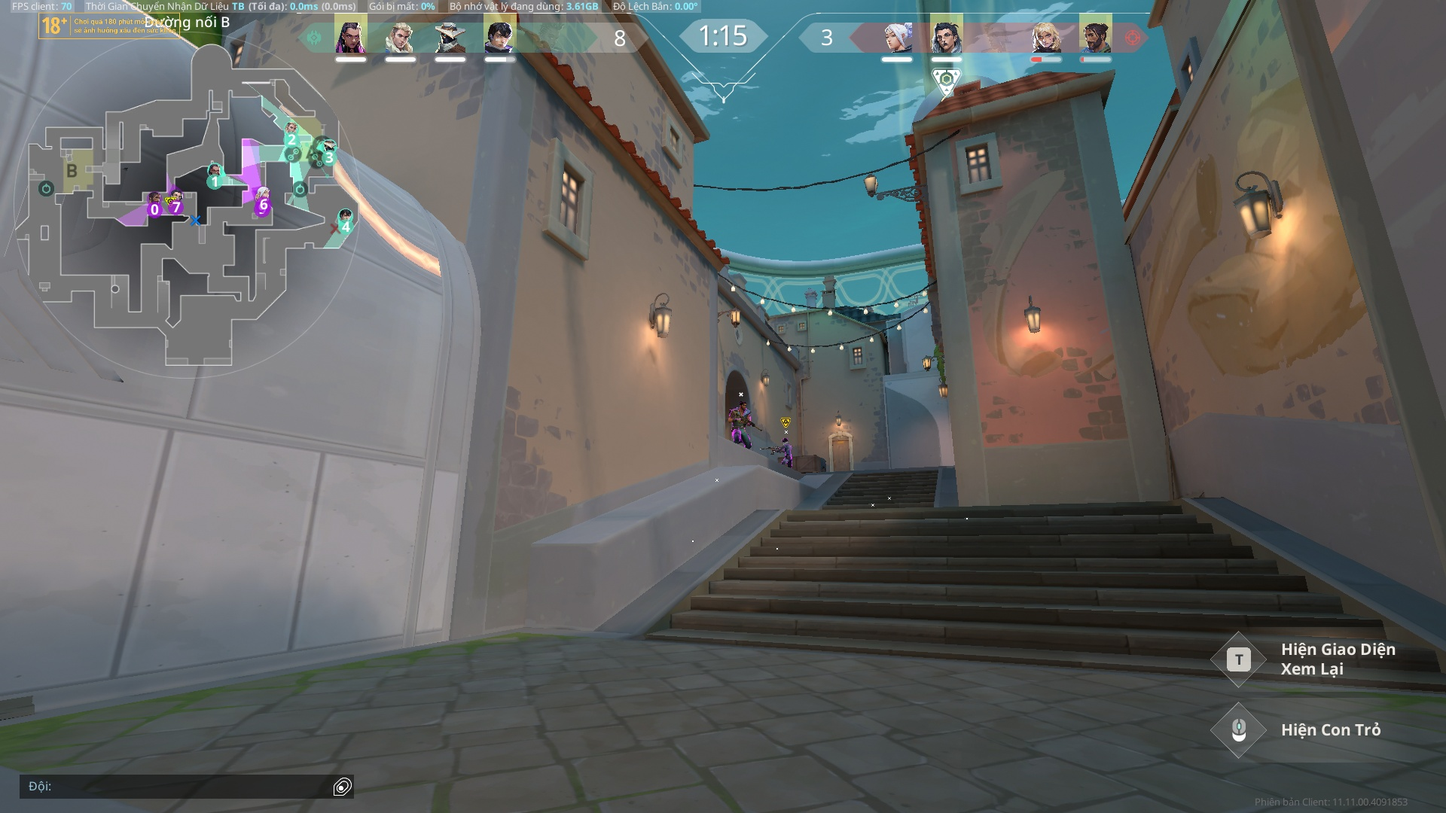body: (728, 406, 751, 428), (781, 442, 792, 457)
head: (738, 399, 748, 410), (781, 437, 789, 443)
